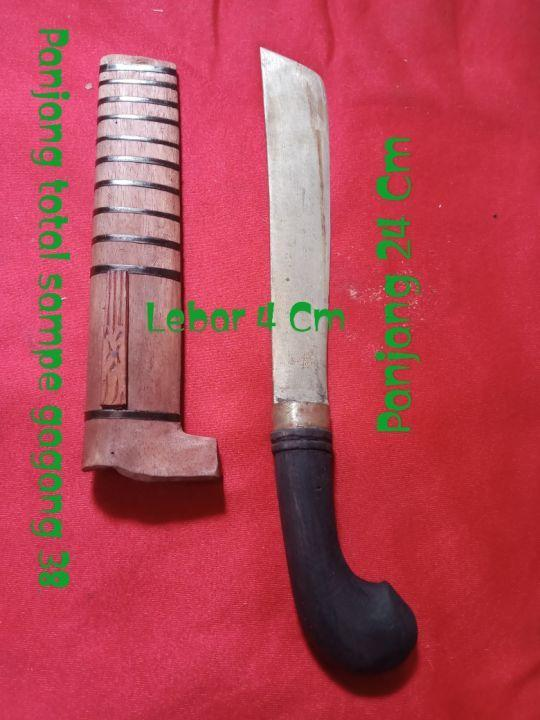facao: (238, 28, 440, 708)
